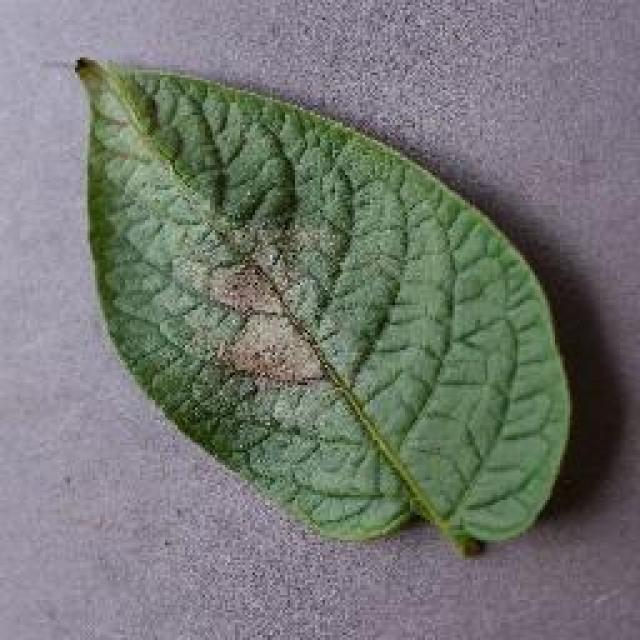late_blight: (70, 52, 575, 558)
